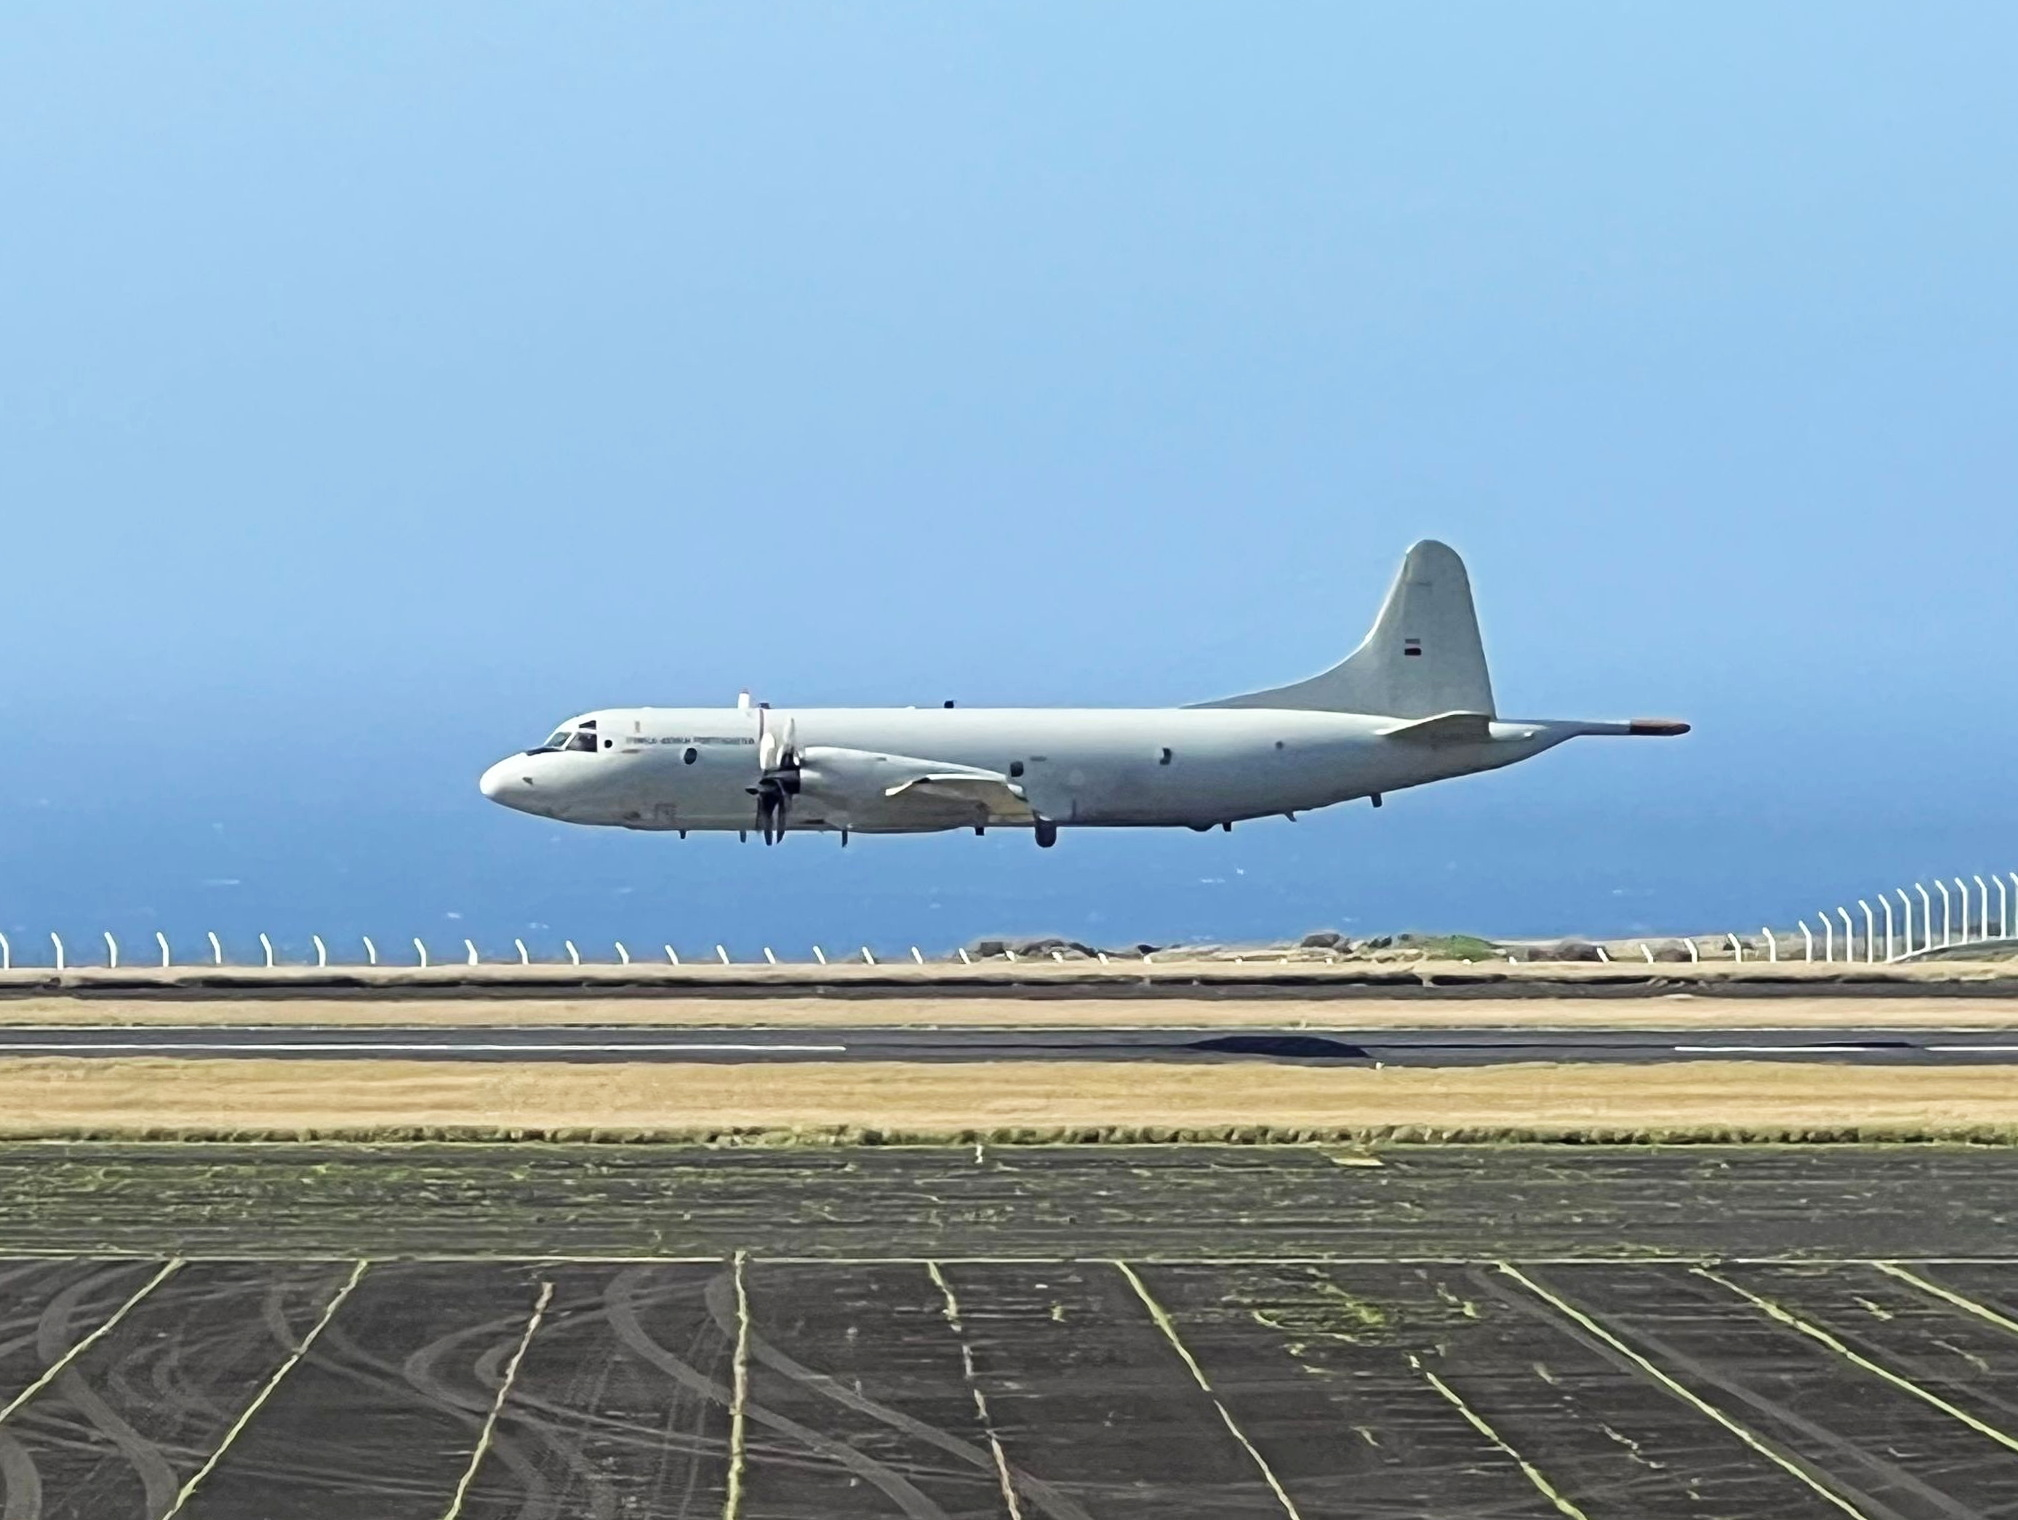airplane: (479, 540, 1691, 848)
